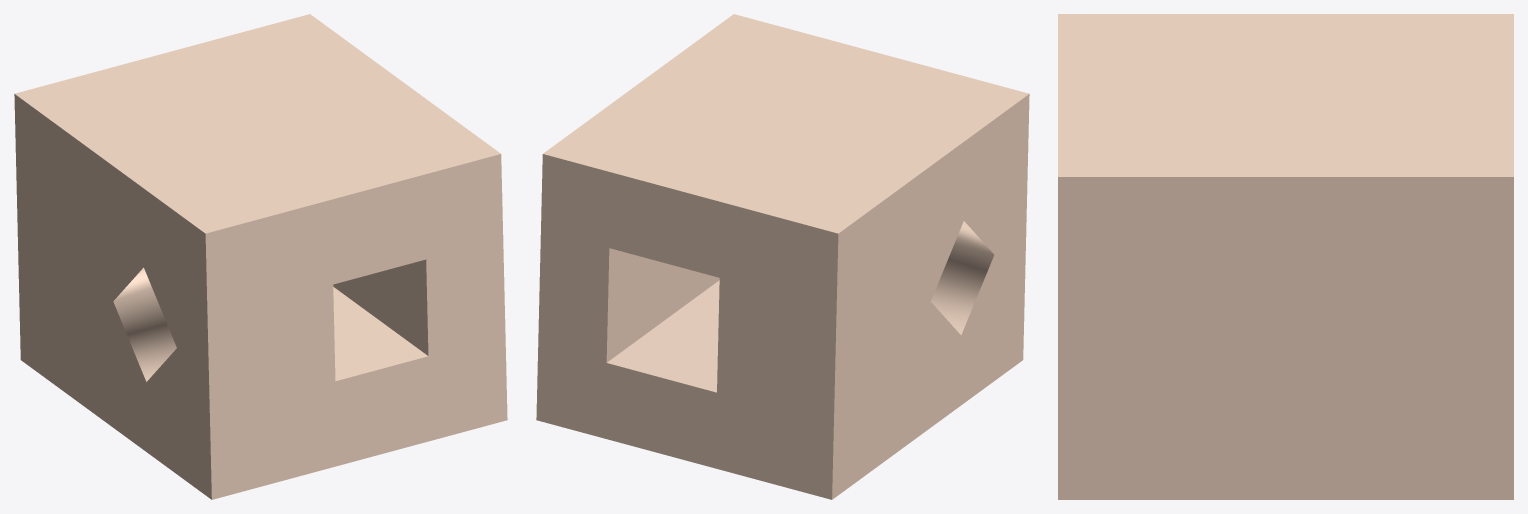
File: Pont tige pendule.obj
3 renders of one model, left to right at view 1: azimuth 30°, elevation 25°; view 2: azimuth 150°, elevation 25°; view 3: azimuth 270°, elevation 25°, orthographic. The views are drawn at different scales.
Visible parts, largest first — view 1: Face_7, Face_5, Face_4, Face_10, Face_9, Face_14; view 2: Face_6, Face_5, Face_4, Face_10, Face_9, Face_14; view 3: Face_2, Face_5.
Boxes of the visible parts, left/top/right/bottom form: Face_7: left=205, top=154, right=507, bottom=499; Face_5: left=15, top=14, right=500, bottom=233; Face_4: left=14, top=94, right=211, bottom=499; Face_10: left=333, top=259, right=428, bottom=355; Face_9: left=333, top=287, right=427, bottom=381; Face_14: left=113, top=267, right=176, bottom=381; Face_6: left=536, top=154, right=838, bottom=499; Face_5: left=543, top=14, right=1028, bottom=233; Face_4: left=832, top=94, right=1029, bottom=499; Face_10: left=606, top=248, right=719, bottom=362; Face_9: left=607, top=280, right=719, bottom=392; Face_14: left=931, top=221, right=993, bottom=334; Face_2: left=1058, top=177, right=1513, bottom=499; Face_5: left=1058, top=14, right=1513, bottom=176.
Bounding box in the file's own units: 0.00684 × 0.00596 × 0.0075.
